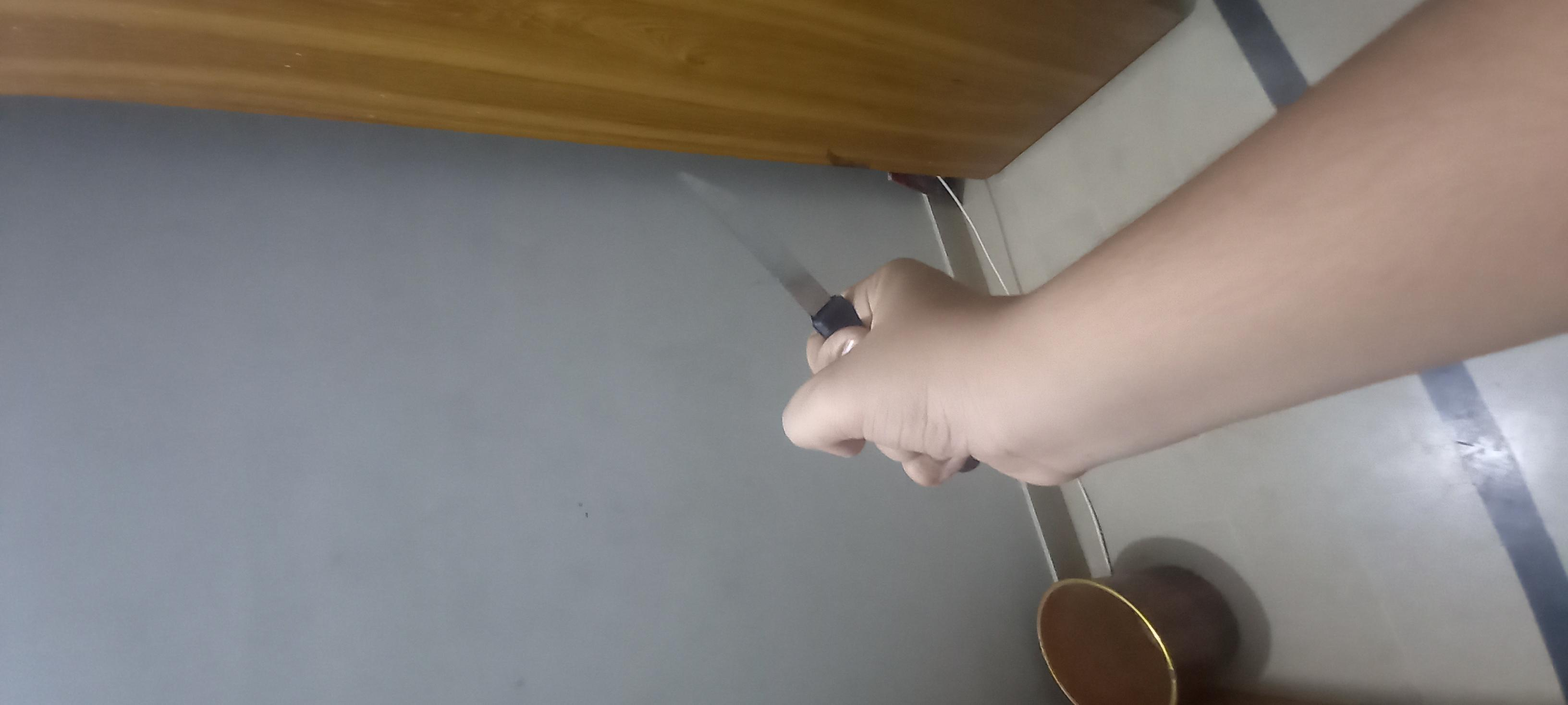knives: (696, 299, 1196, 416)
